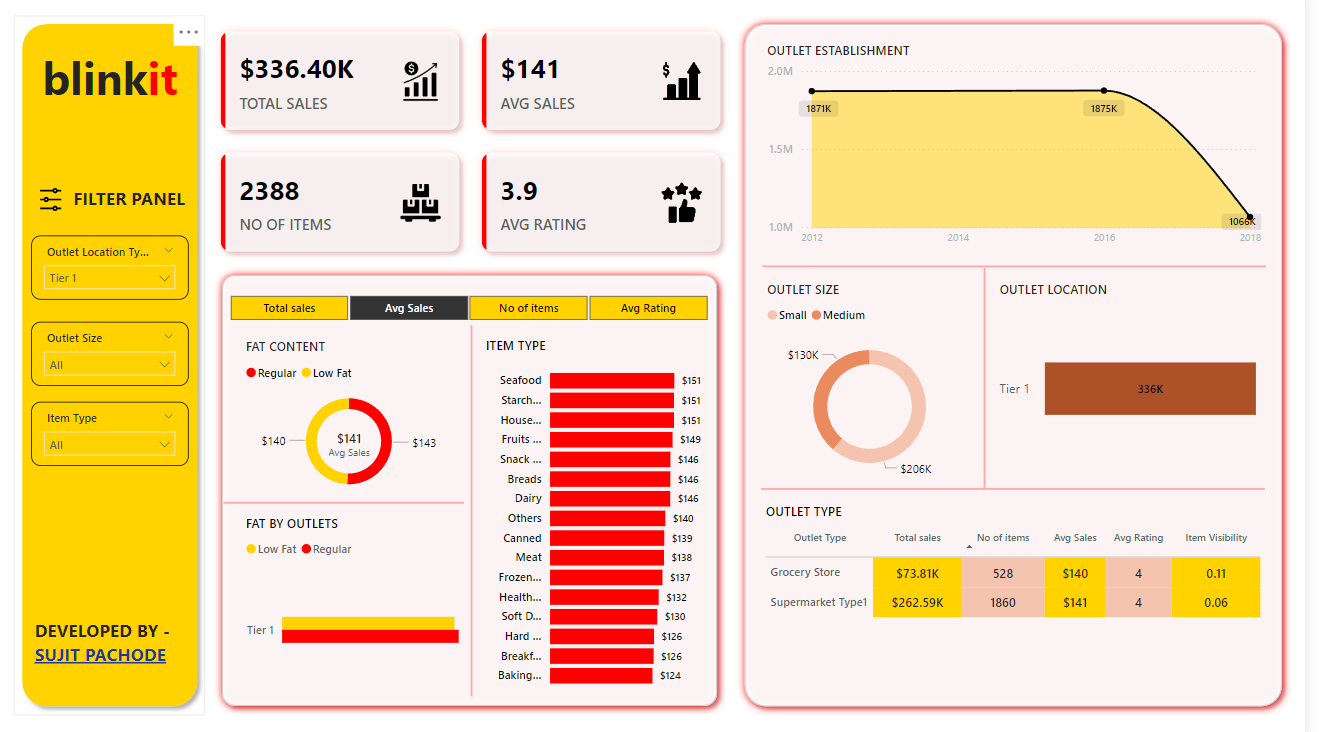

The page's visual inventory and layout, read from the dashboard file:
{"tool":"powerbi","page":{"name":"Page 1","canvas":[1400,800],"ordinal":0},"visuals":[{"type":"shape","box":[14.3,24.3,205.7,750],"z":0},{"type":"textbox","box":[15,52.5,206.2,93.8],"z":1000},{"type":"cardVisual","fields":{"Data":["BlinkIT Grocery Data.Total sales","BlinkIT Grocery Data.Avg Sales","BlinkIT Grocery Data.No of items","BlinkIT Grocery Data.Avg Rating"]},"box":[220,23.8,570,270],"z":2000},{"type":"shape","box":[228.8,293.8,548.8,480],"z":3000},{"type":"donutChart","title":"FAT CONTENT","fields":{"Y":["BlinkIT Grocery Data.Avg Sales"],"Category":["BlinkIT Grocery Data.Item Fat Content"]},"box":[258.8,370,231.2,176.2],"z":4000},{"type":"slicer","fields":{"Values":["Metrics.Metrics"]},"box":[221.4,317.1,561.4,40],"z":5000},{"type":"cardVisual","fields":{"Data":["BlinkIT Grocery Data.Avg Sales"]},"box":[320,438.6,108.6,90],"z":6000},{"type":"clusteredBarChart","title":"FAT BY OUTLETS","fields":{"Y":["BlinkIT Grocery Data.Avg Sales"],"Category":["BlinkIT Grocery Data.Outlet Location Type"],"Series":["BlinkIT Grocery Data.Item Fat Content"]},"box":[258.8,558.8,247.5,196.2],"z":7000},{"type":"shape","box":[240,500,257.8,93.3],"z":8000},{"type":"shape","box":[444.4,356.7,121.1,397.8],"z":9000},{"type":"barChart","title":"ITEM TYPE","fields":{"Y":["BlinkIT Grocery Data.Avg Sales"],"Category":["BlinkIT Grocery Data.Item Type"]},"box":[515.7,368.6,242.9,385.7],"z":10000},{"type":"shape","box":[790,24.3,594.3,750],"z":11000},{"type":"lineChart","title":"OUTLET ESTABLISHMENT","fields":{"Y":["Sum(BlinkIT Grocery Data.Outlet Establishment Year)"],"Category":["BlinkIT Grocery Data.Outlet Establishment Year"]},"box":[817.1,52.9,540,227.1],"z":12000},{"type":"shape","box":[817.1,158.6,540,270],"z":13000},{"type":"donutChart","title":"OUTLET SIZE","fields":{"Y":["BlinkIT Grocery Data.Total sales"],"Category":["BlinkIT Grocery Data.Outlet Size"]},"box":[817.5,308.8,230,225],"z":14000},{"type":"funnel","title":"OUTLET LOCATION","fields":{"Y":["Sum(BlinkIT Grocery Data.Sales)"],"Category":["BlinkIT Grocery Data.Outlet Location Type"]},"box":[1067.1,308.6,290,212.9],"z":15000},{"type":"shape","box":[816.4,396.4,540,270],"z":16000},{"type":"shape","box":[922.9,294.3,267.1,235.7],"z":17000},{"type":"pivotTable","title":"OUTLET TYPE","fields":{"Rows":["BlinkIT Grocery Data.Outlet Type"],"Values":["BlinkIT Grocery Data.Total sales","BlinkIT Grocery Data.No of items","BlinkIT Grocery Data.Avg Sales","BlinkIT Grocery Data.Avg Rating","Avg(BlinkIT Grocery Data.Item Visibility)"]},"box":[816.2,546.2,567.5,210],"z":18000},{"type":"slicer","fields":{"Values":["BlinkIT Grocery Data.Outlet Location Type"]},"box":[32.9,260,168.6,68.6],"z":19000},{"type":"slicer","fields":{"Values":["BlinkIT Grocery Data.Outlet Size"]},"box":[32.9,352.9,168.6,68.6],"z":20000},{"type":"slicer","fields":{"Values":["BlinkIT Grocery Data.Item Type"]},"box":[32.9,438.6,168.6,68.6],"z":21000},{"type":"textbox","box":[74,202,206.7,47.3],"z":22000},{"type":"image","box":[32.9,201.8,41.2,40.6],"z":23000},{"type":"textbox","box":[32.5,666.2,207.5,61.2],"z":24000}]}

Visuals, with their boxes on the page's 1400x800 design canvas (x1, y1, x2, y2). These are canvas units, not pixel positions in the 1320x732 screenshot, which may show the page scaled, cropped or inside an application window:
shape: (left=14, top=24, right=220, bottom=774)
textbox: (left=15, top=52, right=221, bottom=146)
cardVisual - BlinkIT Grocery Data.Total sales x BlinkIT Grocery Data.Avg Sales: (left=220, top=24, right=790, bottom=294)
shape: (left=229, top=294, right=778, bottom=774)
"FAT CONTENT" donutChart: (left=259, top=370, right=490, bottom=546)
slicer - Metrics.Metrics: (left=221, top=317, right=783, bottom=357)
cardVisual - BlinkIT Grocery Data.Avg Sales: (left=320, top=439, right=429, bottom=529)
"FAT BY OUTLETS" clusteredBarChart: (left=259, top=559, right=506, bottom=755)
shape: (left=240, top=500, right=498, bottom=593)
shape: (left=444, top=357, right=566, bottom=754)
"ITEM TYPE" barChart: (left=516, top=369, right=759, bottom=754)
shape: (left=790, top=24, right=1384, bottom=774)
"OUTLET ESTABLISHMENT" lineChart: (left=817, top=53, right=1357, bottom=280)
shape: (left=817, top=159, right=1357, bottom=429)
"OUTLET SIZE" donutChart: (left=818, top=309, right=1048, bottom=534)
"OUTLET LOCATION" funnel: (left=1067, top=309, right=1357, bottom=522)
shape: (left=816, top=396, right=1356, bottom=666)
shape: (left=923, top=294, right=1190, bottom=530)
"OUTLET TYPE" pivotTable: (left=816, top=546, right=1384, bottom=756)
slicer - BlinkIT Grocery Data.Outlet Location Type: (left=33, top=260, right=202, bottom=329)
slicer - BlinkIT Grocery Data.Outlet Size: (left=33, top=353, right=202, bottom=422)
slicer - BlinkIT Grocery Data.Item Type: (left=33, top=439, right=202, bottom=507)
textbox: (left=74, top=202, right=281, bottom=249)
image: (left=33, top=202, right=74, bottom=242)
textbox: (left=32, top=666, right=240, bottom=727)
